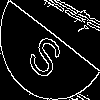S: (25, 25, 70, 82)
